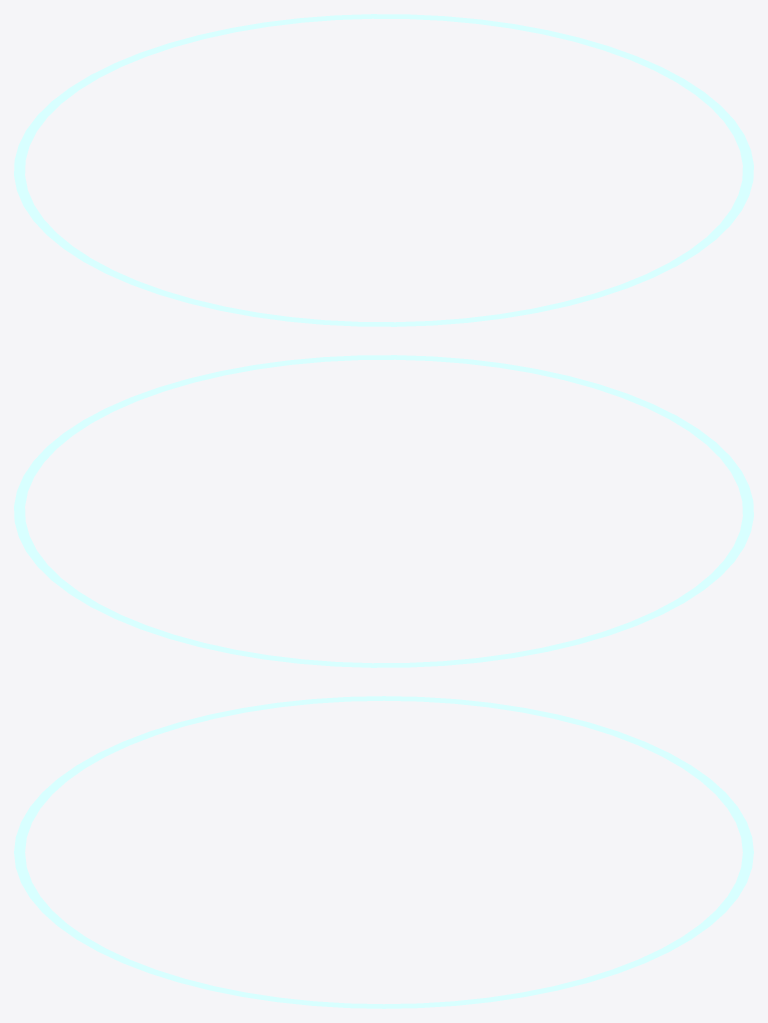
File: orbit.glb
3 renders of one model, top to bottom at view 1: azimuth 30°, elevation 25°; view 2: azimuth 150°, elevation 25°; view 3: azimuth 270°, elevation 25°, orthographic.
Visible parts, largest first — view 1: orbit; view 2: orbit; view 3: orbit.
Boxes of the visible parts, x1,y1,x2,y2 form: orbit: (14,14,753,326); orbit: (14,355,753,667); orbit: (14,696,753,1008).
Bounding box in the file's own units: 6554 × 0 × 6554.
